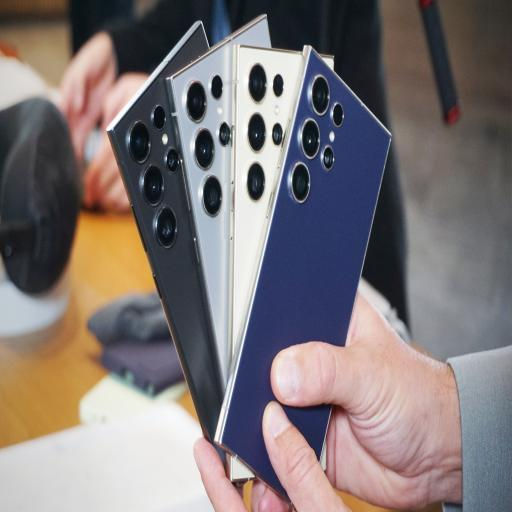phone: (216, 55, 390, 505)
